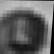correct: (0, 4, 50, 54)
